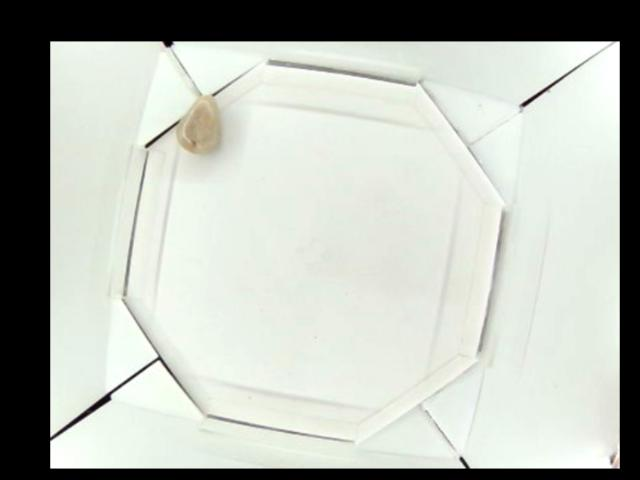Pebble: (176, 91, 221, 156)
